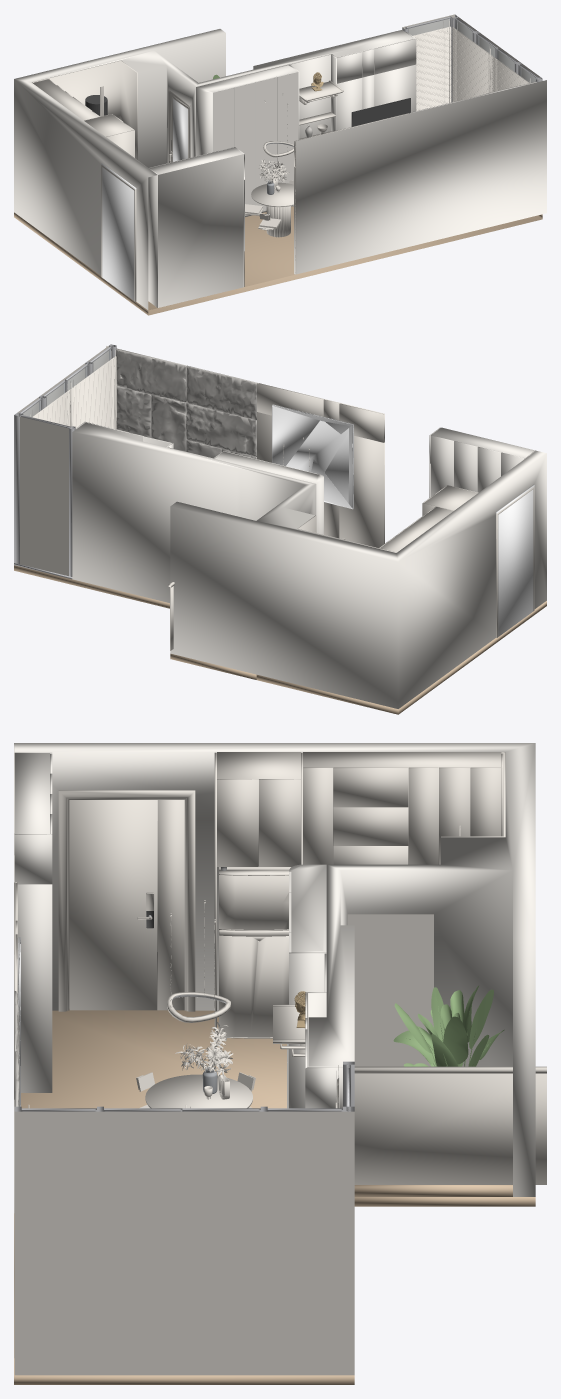
Rendered from phong-khach-bep.glb.
3 views of the same model, one above another, from view 1: azimuth 30°, elevation 25°; view 2: azimuth 150°, elevation 25°; view 3: azimuth 270°, elevation 25° (orthographic). The views are drawn at different scales.
Visible parts, largest first — view 1: Layer:TUONG, Mesh158, Rectangle2123442917, Object2111134012, Object2111134019, Line2062833185, Rectangle2123442910, Plane2115544228, Rectangle2123442913, Rectangle2123442904, Plane2115544240, Sony_x900f006 (+13 smaller); view 2: Layer:TUONG, Plane2115544240, Object2111134002, photo frame04, Object2111134019, Object2111134009, Plane2115544228, Rectangle2123442917, GGD_DDPU_02_007, GGD_DDPU_02_009, GGD_DDPU_02_006, GGD_DDPU_02_001 (+7 smaller); view 3: Plane2115544240, Layer:TUONG, Rectangle2123442917, Rectangle2123445392, CUA 40MM011, Object2111134011, Rectangle2123442904, Object2111134010, Box014, CUA 40MM010, NEP CUA 60MM019, Indoor Plants in rusty Concrete Pot - Set 628_07 (+16 smaller).
Boxes of the visible parts, box(x1,y1,x2,y2) form: Layer:TUONG: box(14, 29, 546, 309); Mesh158: box(213, 71, 298, 210); Rectangle2123442917: box(14, 206, 542, 315); Object2111134012: box(337, 32, 416, 130); Object2111134019: box(101, 163, 136, 300); Line2062833185: box(32, 60, 137, 159); Rectangle2123442910: box(196, 64, 297, 216); Plane2115544228: box(402, 14, 542, 102); Rectangle2123442913: box(290, 54, 330, 138); Rectangle2123442904: box(148, 147, 244, 307); Plane2115544240: box(402, 14, 540, 82); Sony_x900f006: box(351, 98, 410, 126); Layer:TUONG: box(72, 346, 546, 708); Plane2115544240: box(18, 346, 108, 576); Object2111134002: box(257, 383, 384, 547); photo frame04: box(272, 404, 353, 509); Object2111134019: box(496, 484, 534, 636); Object2111134009: box(430, 435, 524, 496); Plane2115544228: box(14, 344, 116, 579); Rectangle2123442917: box(14, 565, 546, 714); GGD_DDPU_02_007: box(186, 365, 257, 420); GGD_DDPU_02_009: box(116, 348, 186, 402); GGD_DDPU_02_006: box(186, 403, 256, 456); GGD_DDPU_02_001: box(151, 395, 186, 451); Plane2115544240: box(14, 914, 433, 1375); Layer:TUONG: box(14, 743, 535, 1357); Rectangle2123442917: box(14, 1009, 354, 1384); Rectangle2123445392: box(354, 1073, 546, 1184); CUA 40MM011: box(69, 800, 156, 1010); Object2111134011: box(303, 767, 500, 864); Rectangle2123442904: box(14, 752, 52, 1092); Object2111134010: box(217, 779, 300, 866); Box014: box(219, 935, 288, 1037); CUA 40MM010: box(158, 800, 184, 1010); NEP CUA 60MM019: box(58, 790, 195, 1011); Indoor Plants in rusty Concrete Pot - Set 628_07: box(393, 985, 504, 1066).
Bounding box in the file's own units: 8.32 × 3.02 × 4.95.
